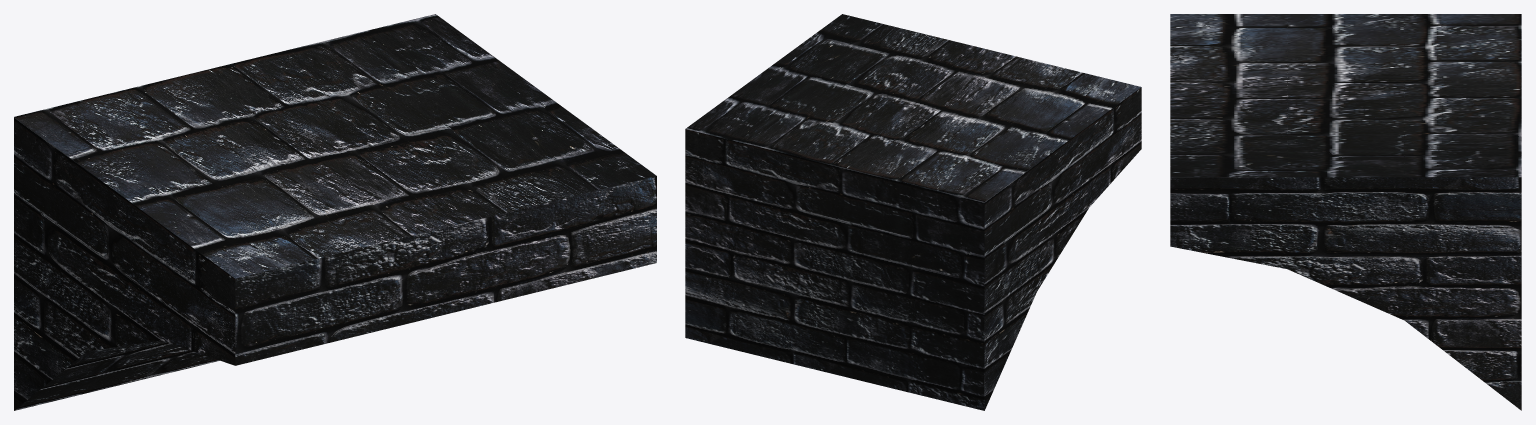
The model's file is bridge_supports.fbx.
3 renders of one model, left to right at view 1: azimuth 30°, elevation 25°; view 2: azimuth 150°, elevation 25°; view 3: azimuth 270°, elevation 25°, orthographic. The views are drawn at different scales.
Parts seen in each view (by area): view 1: bridge; view 2: bridge; view 3: bridge.
Part boxes in pixels (x1,y1,x2,y2): bridge: (14, 14, 656, 410); bridge: (685, 14, 1141, 410); bridge: (1170, 14, 1521, 410).
Size of the model in its own units: 300 by 200 by 273.
Materials: 1 (1 with a texture image).
